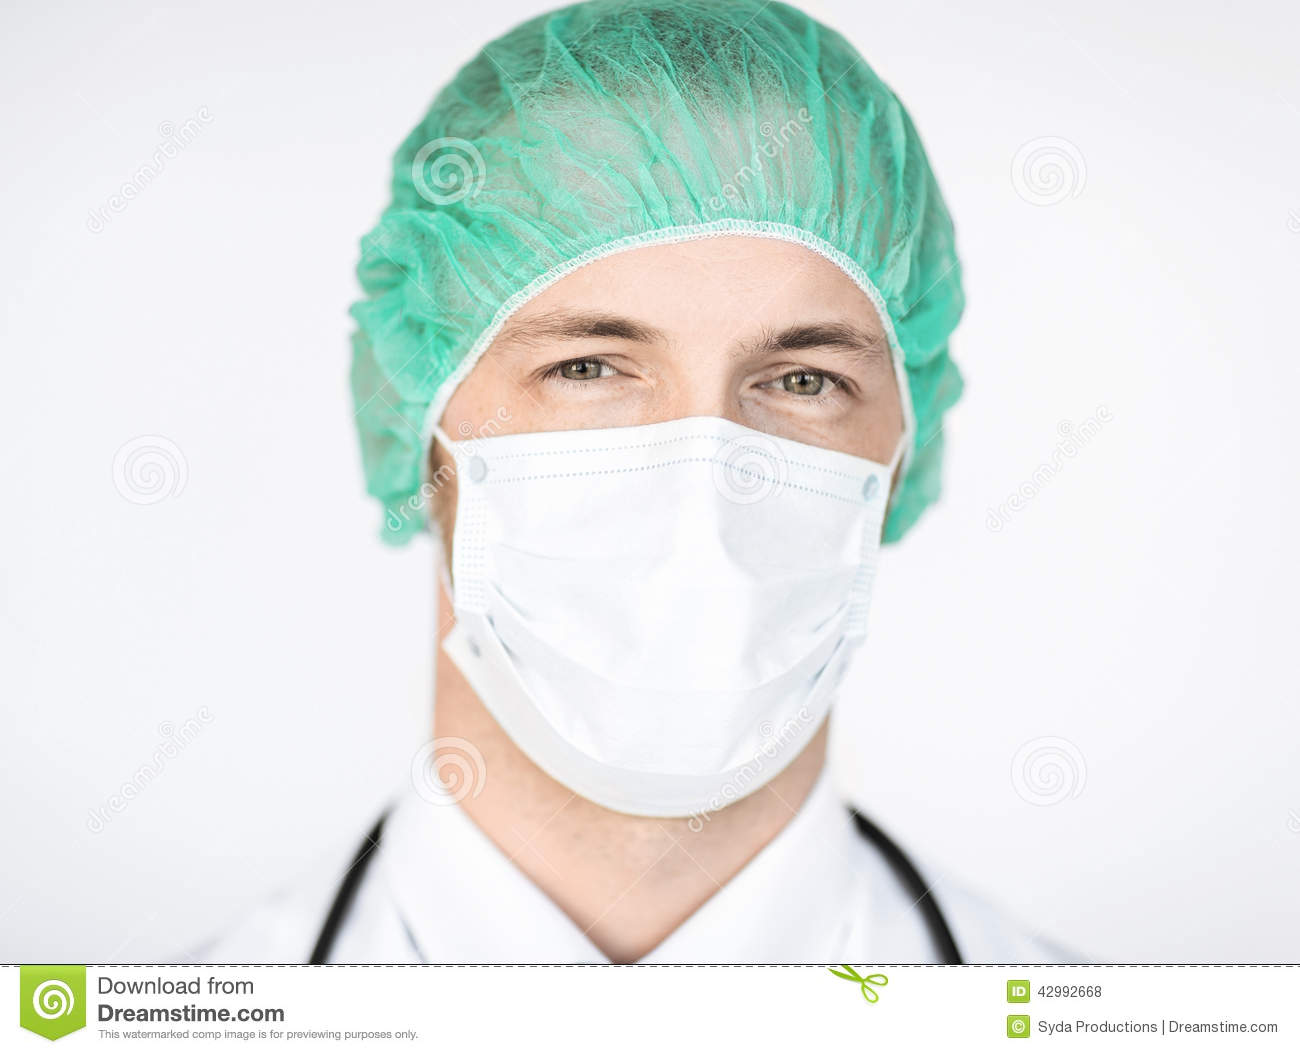mask: (430, 426, 874, 807)
